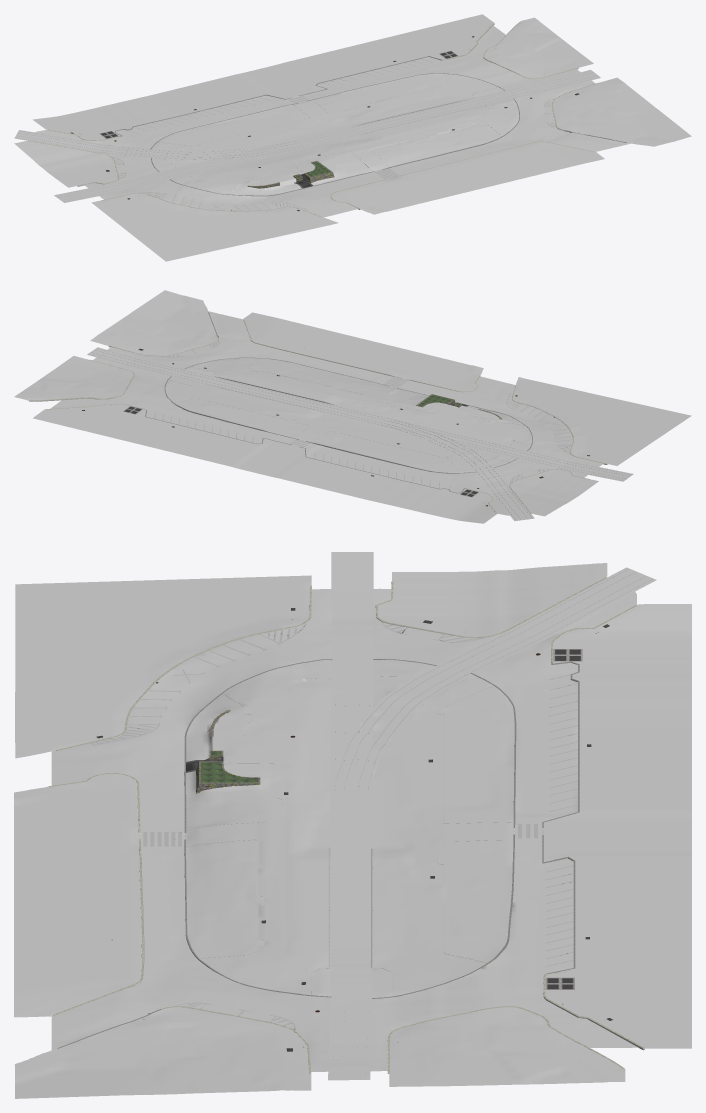
File: Bebelplatz.FBX
3 views of the same model, one above another, from view 1: azimuth 30°, elevation 25°; view 2: azimuth 150°, elevation 25°; view 3: azimuth 270°, elevation 25° (orthographic). The views are drawn at different scales.
Parts seen in each view (by area): view 1: PavementNorth, Curbside Normal015, PlaceSouth, PlaceNorth, StreetSouth, StreetNorth, PavementSouthWest, PavementSouth, PlacementSouthEast, PavementNorthEast, PavementNorthWest; view 2: PavementNorth, Curbside Normal015, PlaceNorth, PlaceSouth, StreetSouth, StreetNorth, PavementSouthWest, PavementSouth, PlacementSouthEast, PavementNorthEast, PavementNorthWest; view 3: PavementNorth, Curbside Normal015, PlaceSouth, PlaceNorth, StreetSouth, StreetNorth, PavementSouthWest, PavementSouth, PlacementSouthEast, PavementNorthEast, PavementNorthWest.
Part boxes in pixels (bbox=[...]): PavementNorth: bbox=[33, 14, 493, 140]; Curbside Normal015: bbox=[14, 21, 626, 216]; PlaceSouth: bbox=[171, 99, 519, 195]; PlaceNorth: bbox=[151, 73, 503, 171]; StreetSouth: bbox=[99, 80, 630, 217]; StreetNorth: bbox=[35, 25, 580, 188]; PavementSouthWest: bbox=[91, 193, 338, 261]; PavementSouth: bbox=[331, 142, 604, 214]; PlacementSouthEast: bbox=[552, 77, 691, 146]; PavementNorthEast: bbox=[484, 17, 593, 78]; PavementNorthWest: bbox=[14, 141, 117, 187]; PavementNorth: bbox=[33, 404, 496, 523]; Curbside Normal015: bbox=[29, 312, 633, 521]; PlaceNorth: bbox=[165, 376, 516, 472]; PlaceSouth: bbox=[185, 358, 531, 450]; StreetSouth: bbox=[107, 311, 603, 466]; StreetNorth: bbox=[50, 357, 587, 515]; PavementSouthWest: bbox=[513, 377, 691, 465]; PavementSouth: bbox=[243, 312, 483, 391]; PlacementSouthEast: bbox=[90, 290, 217, 355]; PavementNorthEast: bbox=[14, 356, 133, 400]; PavementNorthWest: bbox=[510, 469, 598, 516]; PavementNorth: bbox=[543, 604, 691, 1048]; Curbside Normal015: bbox=[49, 552, 656, 1080]; PlaceSouth: bbox=[186, 660, 331, 996]; PlaceNorth: bbox=[372, 659, 514, 997]; StreetSouth: bbox=[51, 589, 332, 1071]; StreetNorth: bbox=[370, 588, 638, 1071]; PavementSouthWest: bbox=[15, 575, 311, 758]; PavementSouth: bbox=[14, 774, 141, 1017]; PlacementSouthEast: bbox=[14, 1007, 311, 1098]; PavementNorthEast: bbox=[389, 1007, 625, 1086]; PavementNorthWest: bbox=[378, 563, 607, 636].
Size of the model in its own units: 17183 by 470 by 9291.
